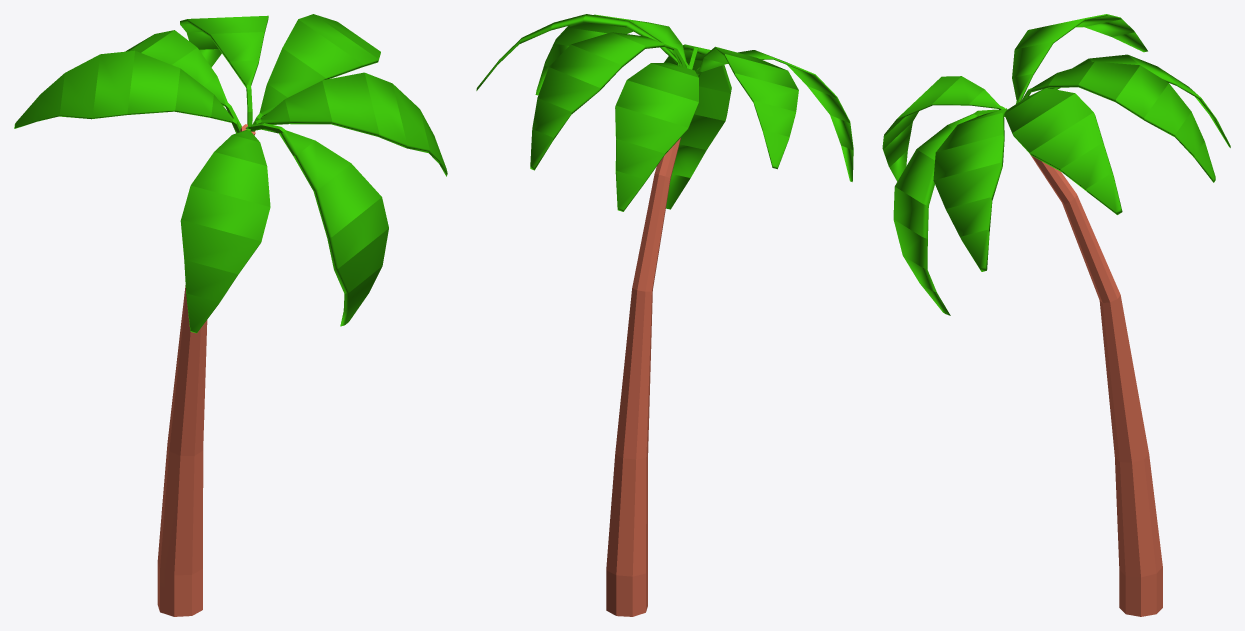
Rendered from palm4.fbx.
3 views of the same model, side by side, from view 1: azimuth 30°, elevation 25°; view 2: azimuth 150°, elevation 25°; view 3: azimuth 270°, elevation 25° (orthographic). The views are drawn at different scales.
Visible parts, largest first — view 1: palm4; view 2: palm4; view 3: palm4.
Boxes of the visible parts, left/top/right/bottom form: palm4: left=14, top=14, right=447, bottom=616; palm4: left=476, top=14, right=853, bottom=616; palm4: left=882, top=14, right=1230, bottom=616.
Size of the model in its own units: 464 by 763 by 434.
